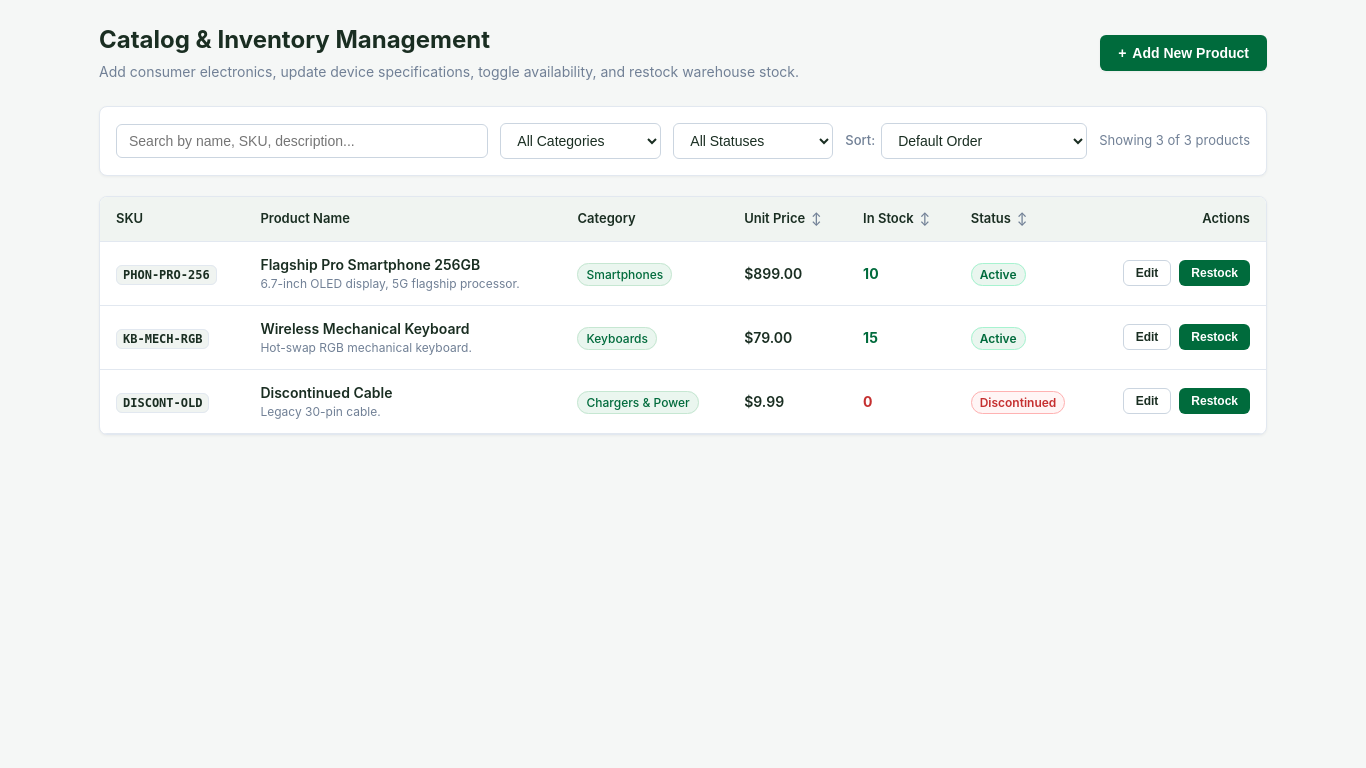
Feature 6: Product Catalog Management Component (F-06) › opens Add Product modal and submits valid new product
Expected: the text "Flagship Pro Smartphone 256GB" is shown, [260,256,480,273]
Click the button with test id "add-product-btn" at (1184, 53), box [1100,35,1267,71]
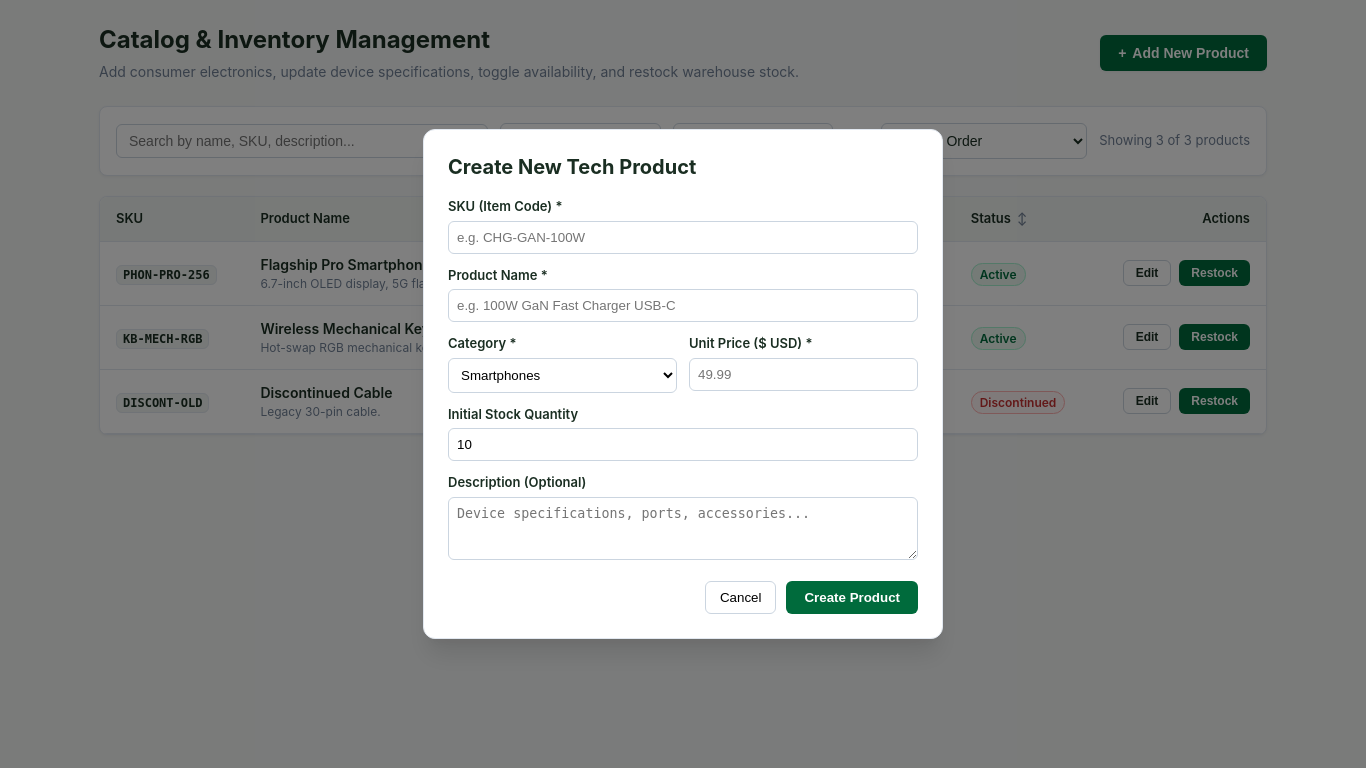
Now the element with test id "add-product-modal" is shown
Note: Fill form
Type "CHG-WIRELESS-15W" into the field with test id "input-new-sku" at (683, 237), box [448,221,918,254]
Type "15W Magnetic Wireless Charging Pad" into the field with test id "input-new-name" at (683, 306), box [448,289,918,322]
Select "Chargers & Power" in the dropdown with test id "input-new-category" at (562, 375), box [448,358,677,393]
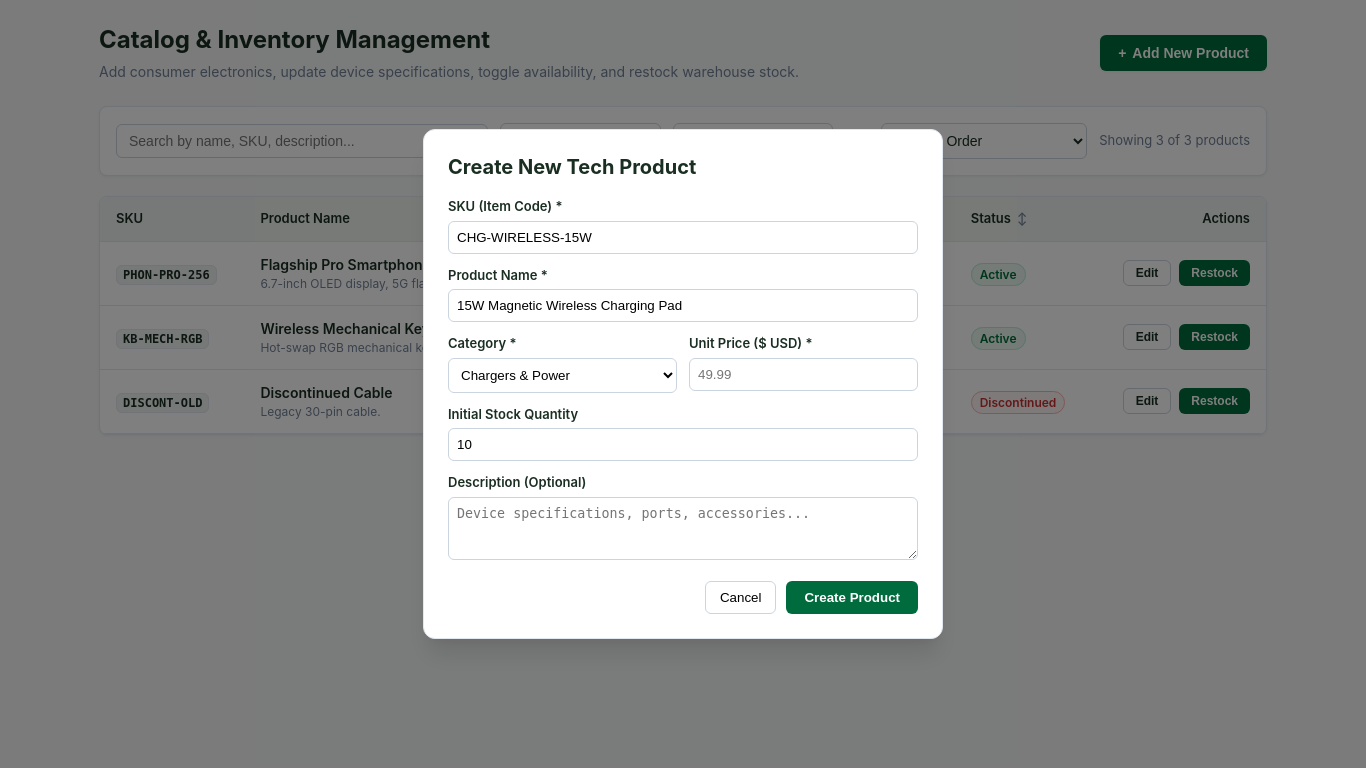
Type "39.99" into the number field with test id "input-new-price" at (804, 374), box [689,358,918,391]
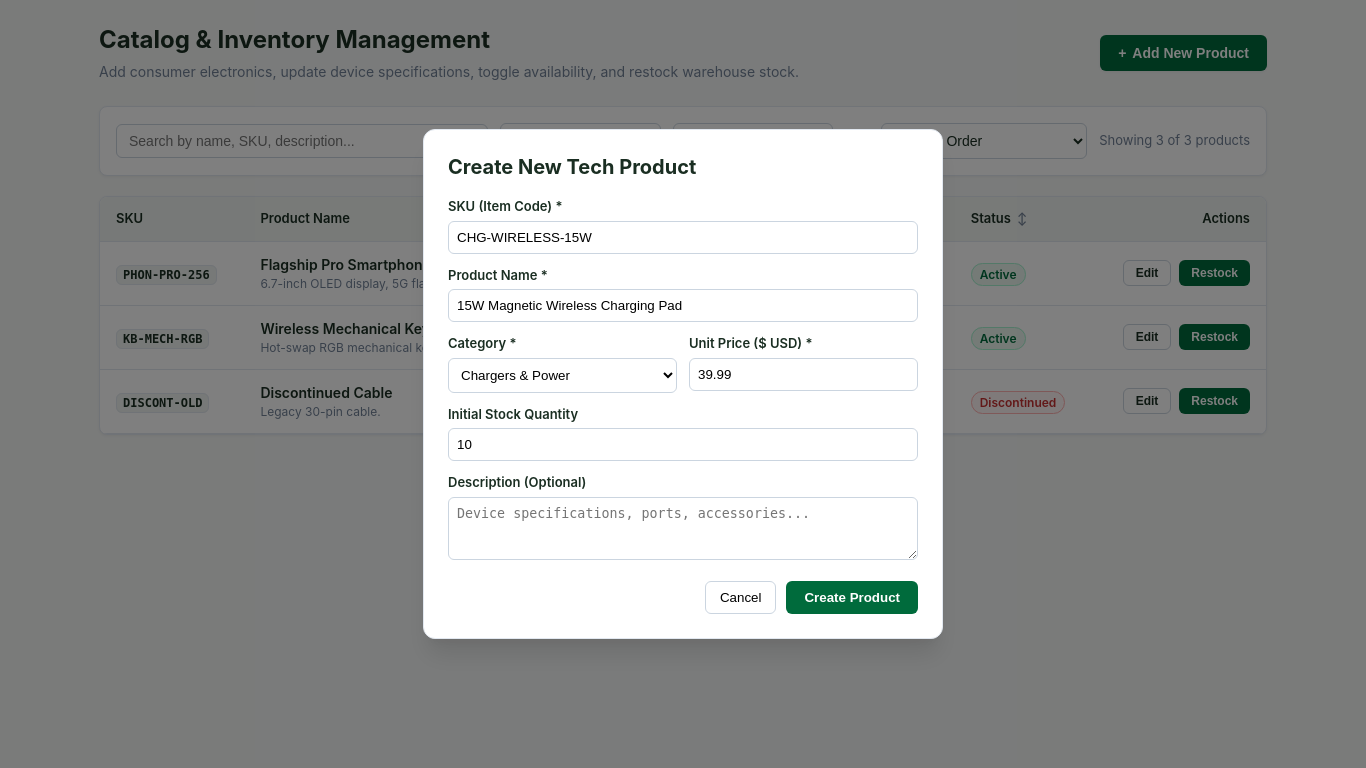
Replace the text in the number field with test id "input-new-stock" with "20" at (683, 445), box [448,428,918,461]
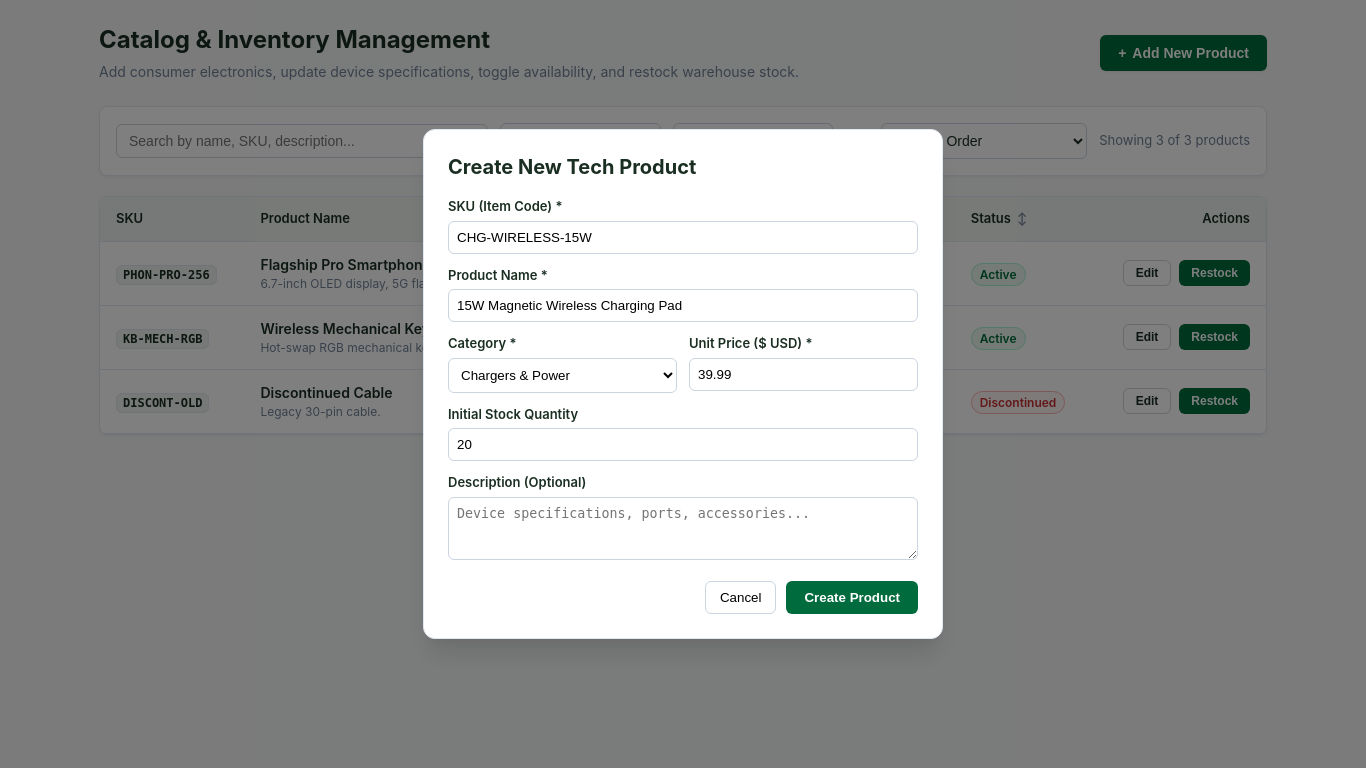
Type "Qi fast charger" into the text box with test id "input-new-description" at (683, 528), box [448,497,918,560]
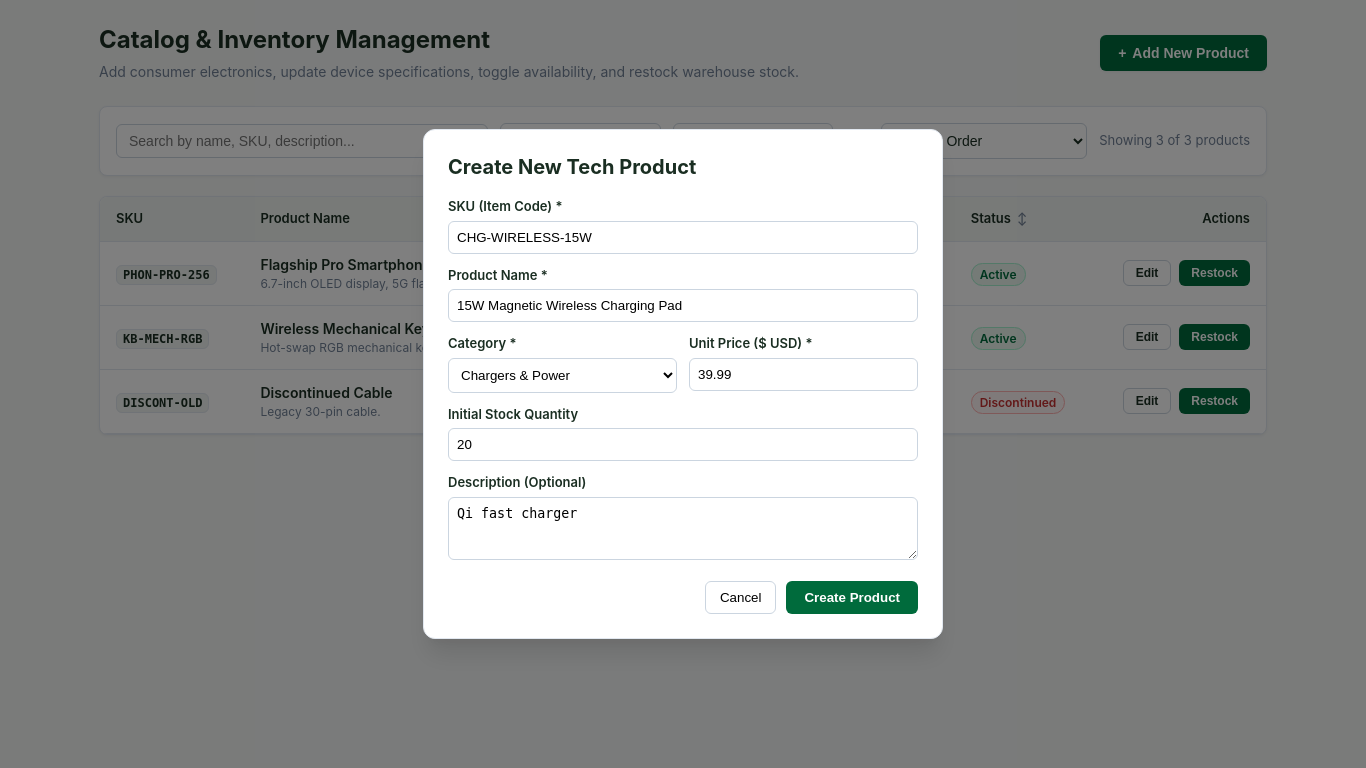
Click the button with test id "submit-new-product-btn" at (852, 597), box [786,581,918,614]
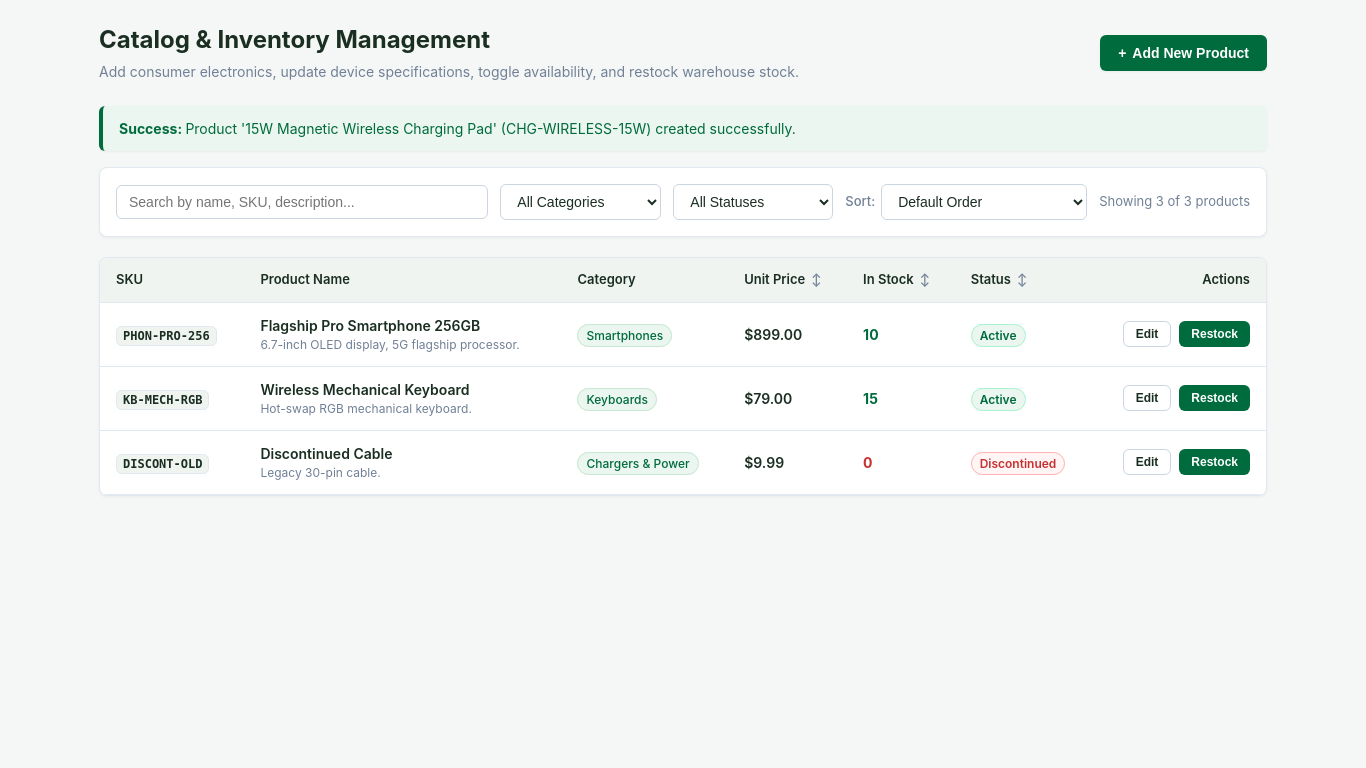
Now the element with test id "mgmt-success-banner" is shown, box [99,106,1267,151]
Now the element with test id "mgmt-success-banner" shows "created successfully", box [185,120,796,137]
